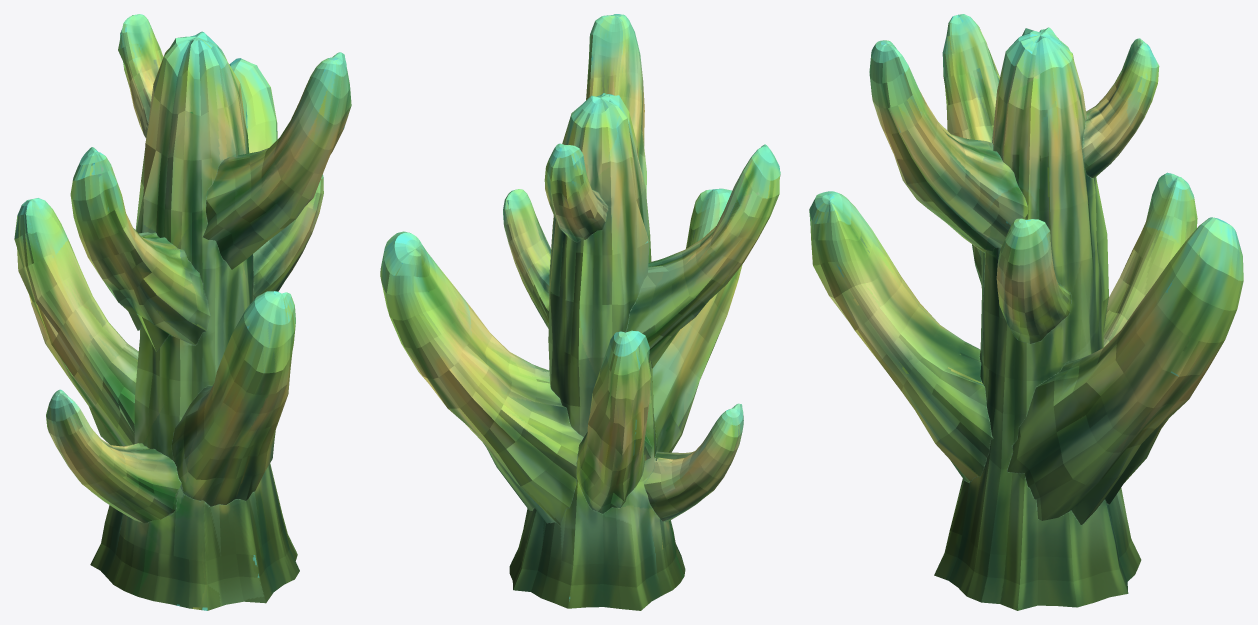
File: saguaro.glb
The picture shows the model from 3 angles, left to right: view 1: azimuth 30°, elevation 25°; view 2: azimuth 150°, elevation 25°; view 3: azimuth 270°, elevation 25°; orthographic projection. The views are drawn at different scales.
Parts seen in each view (by area): view 1: CACTUS; view 2: CACTUS; view 3: CACTUS.
Boxes of the visible parts, x1,y1,x2,y2 form: CACTUS: (14,14,351,610); CACTUS: (380,14,780,610); CACTUS: (809,14,1243,610).
Size of the model in its own units: 9.3 by 15.46 by 10.98.
1 material, 1 textured.
